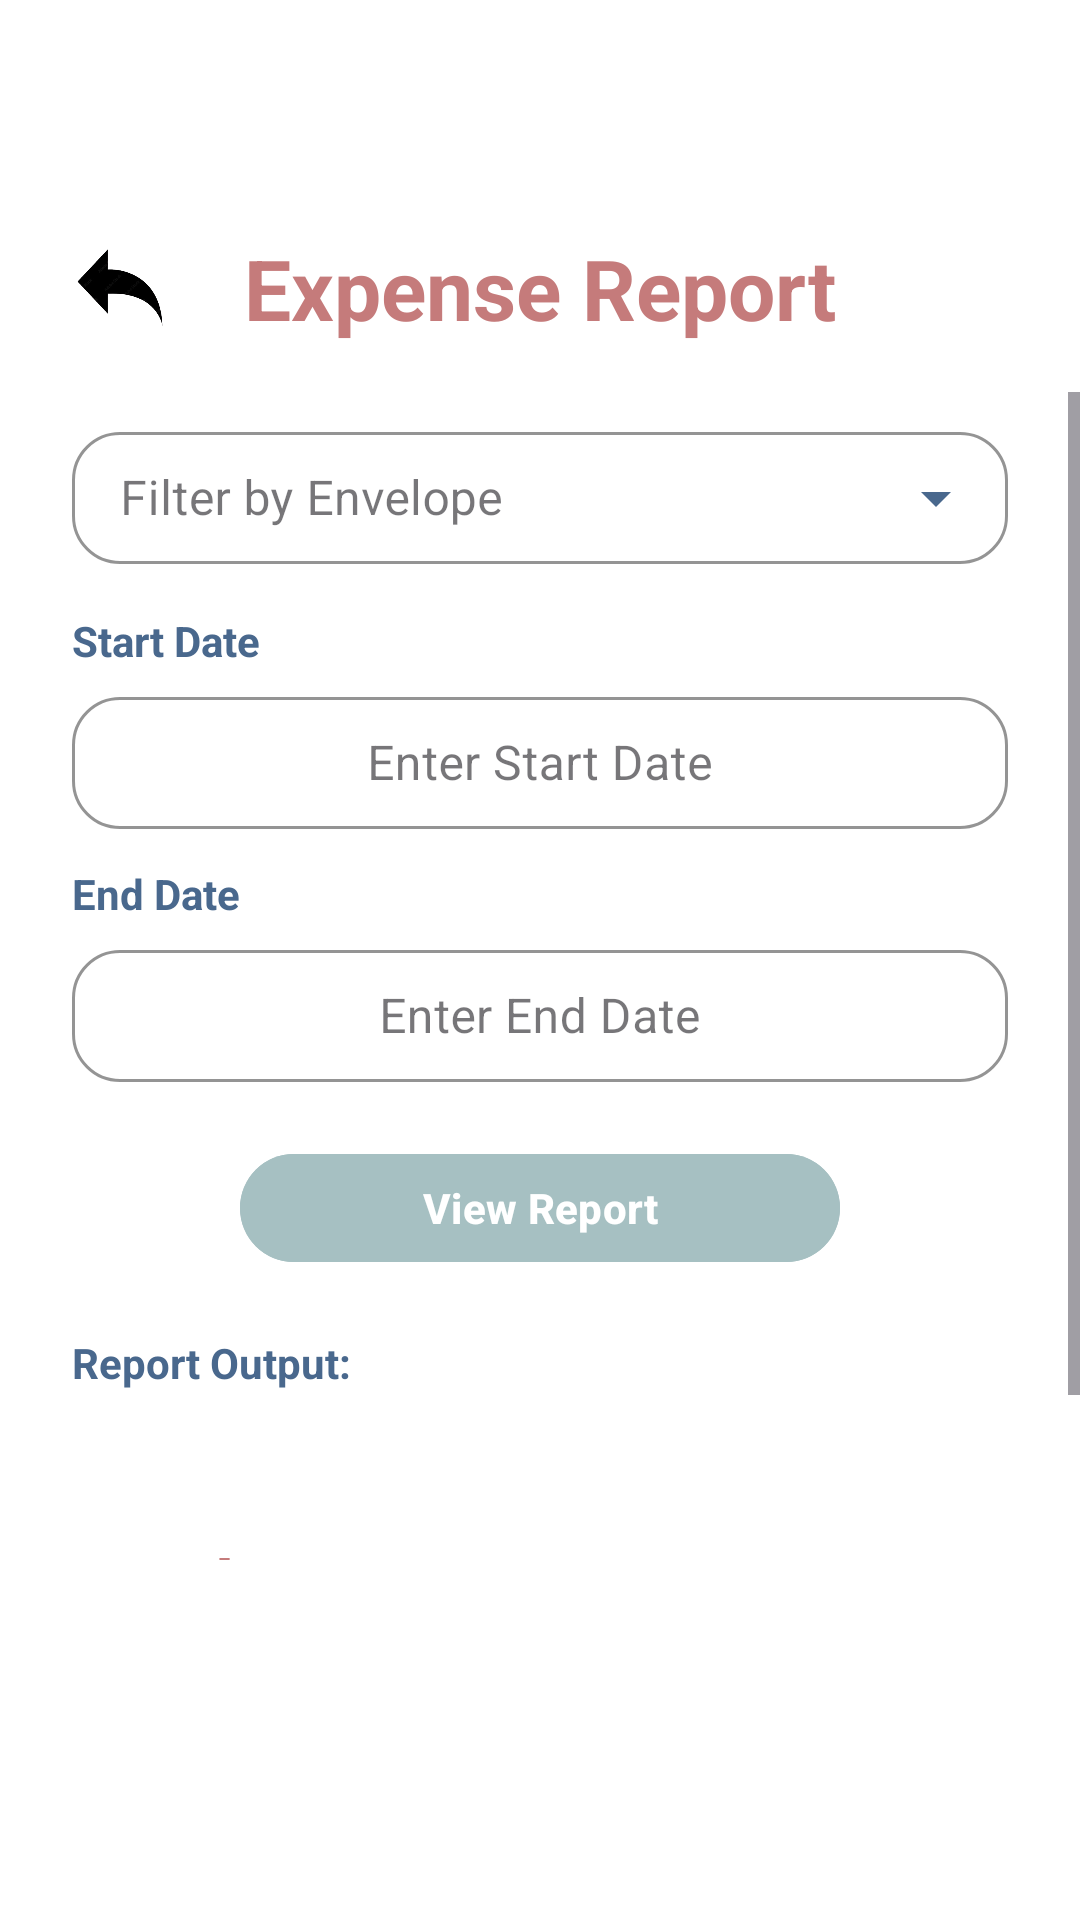

Screen size 1080w x 1920h. Icon name, then its box in pixels as detection(x1, y1, x2, y2):
back: detection(78, 249, 163, 326)
